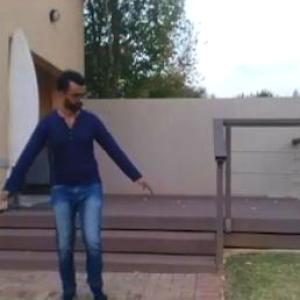land: (1, 56, 150, 299)
